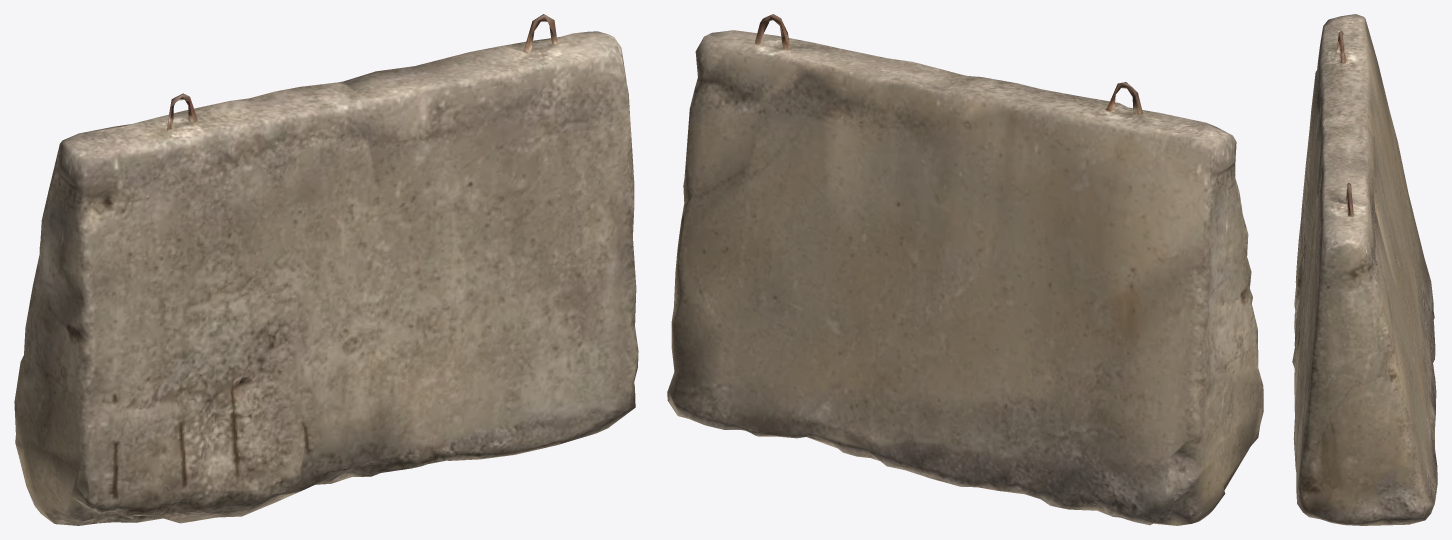
File: barrier.glb
3 views of the same model, side by side, from view 1: azimuth 30°, elevation 25°; view 2: azimuth 150°, elevation 25°; view 3: azimuth 270°, elevation 25° (orthographic). The views are drawn at different scales.
Visible parts, largest first — view 1: concrete_road_barrier_02; view 2: concrete_road_barrier_02; view 3: concrete_road_barrier_02.
Part boxes in pixels (<box>): concrete_road_barrier_02: <box>14,14,638,525</box>; concrete_road_barrier_02: <box>667,14,1263,525</box>; concrete_road_barrier_02: <box>1292,14,1437,525</box>.
Bounding box in the file's own units: 1.56 × 1.11 × 0.4418.
1 material, 1 textured.
